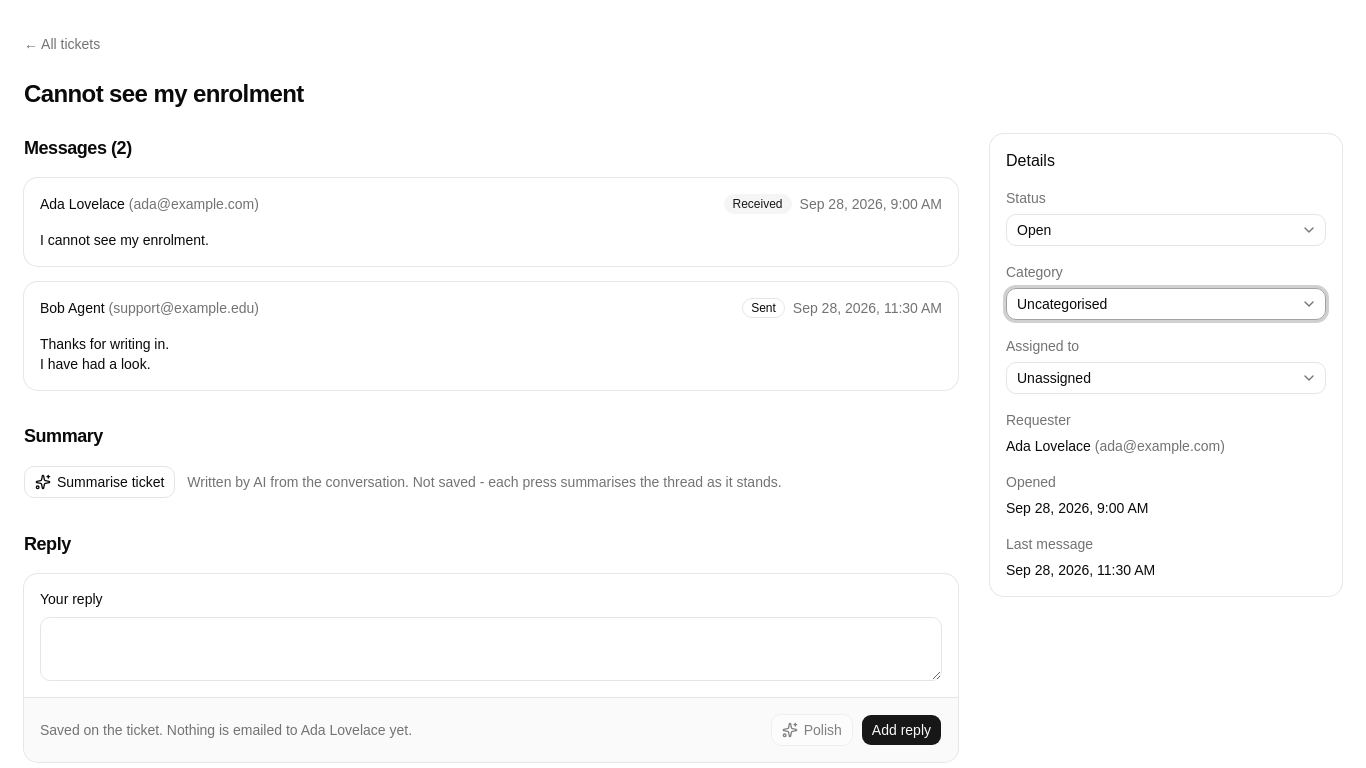
Test case: TicketDetailPage › classifies an uncategorised ticket
Expected: the dropdown named "Category" is enabled, [1006,288,1326,320]
Press Arrowdown
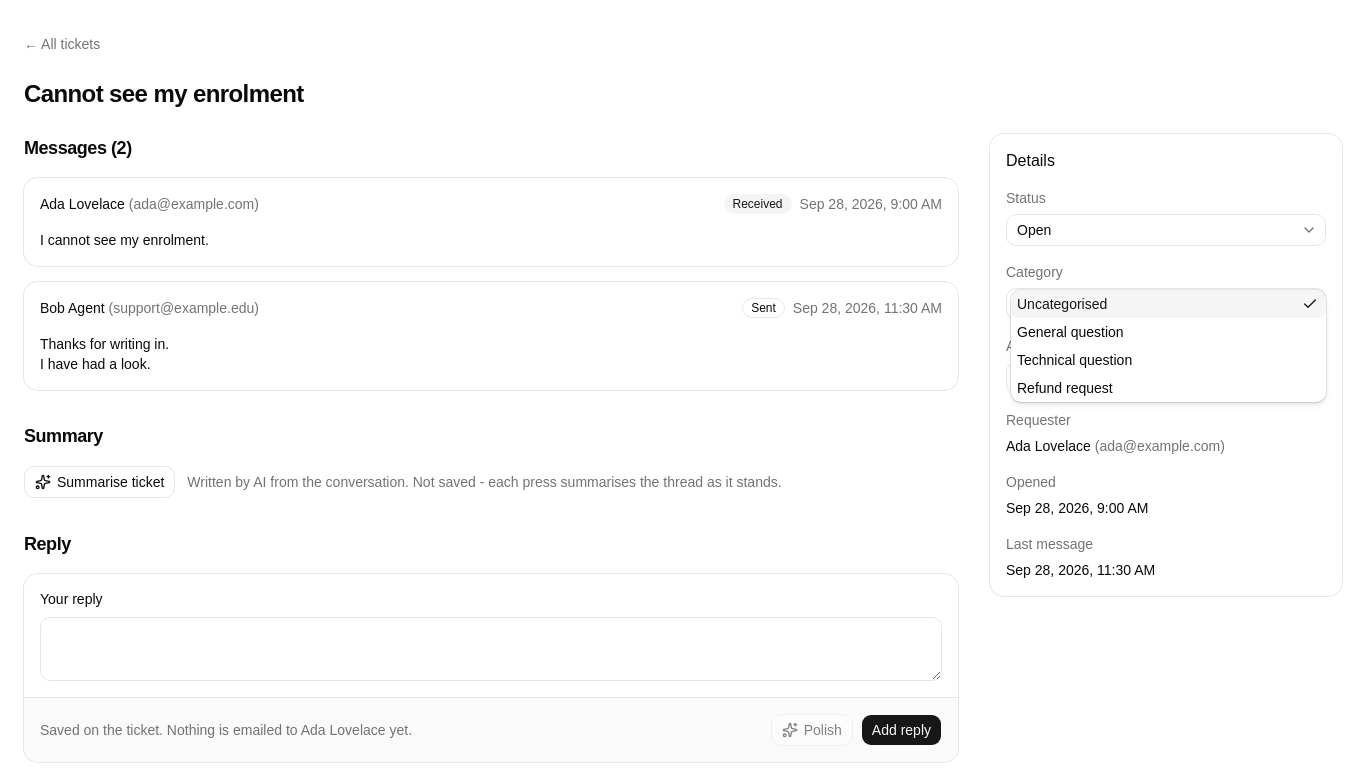
Click the option "Technical question".
click(1075, 360)  # box [1017,352,1132,368]
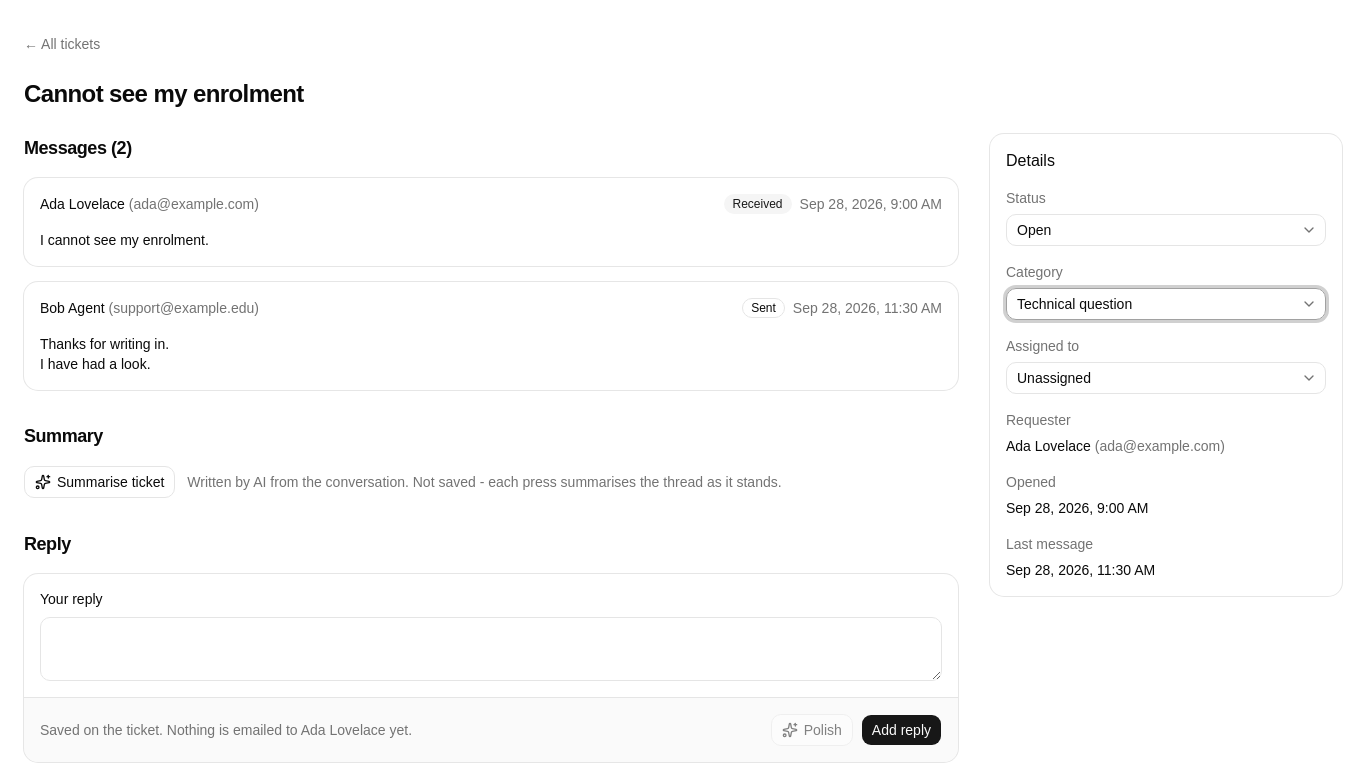
Now the dropdown named "Category" reads "Technical question", box [1006,288,1326,320]
